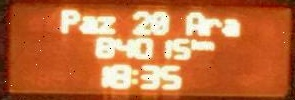0: (150, 11, 171, 35), (133, 37, 153, 61)
1: (100, 62, 108, 91), (163, 37, 171, 61)
2: (130, 9, 151, 36)
3: (139, 60, 158, 91)
4: (115, 36, 133, 59)
5: (159, 64, 182, 93), (171, 36, 190, 61)
8: (109, 61, 130, 90), (93, 34, 116, 59)
X: (58, 5, 79, 34), (185, 10, 204, 35), (96, 13, 117, 35), (222, 16, 241, 37), (80, 13, 97, 36), (203, 16, 221, 36), (129, 67, 138, 86), (202, 38, 215, 51), (191, 38, 201, 51)
